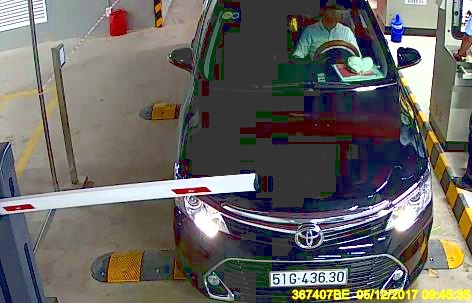plate: (269, 266, 348, 284)
